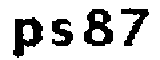7: (118, 6, 152, 50)
8: (82, 4, 114, 51)
p: (10, 16, 45, 60)
s: (50, 17, 74, 50)
